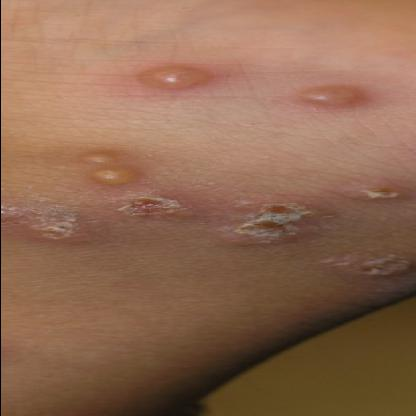Fire ant: (60, 146, 148, 190), (122, 61, 214, 95), (288, 82, 357, 108)
